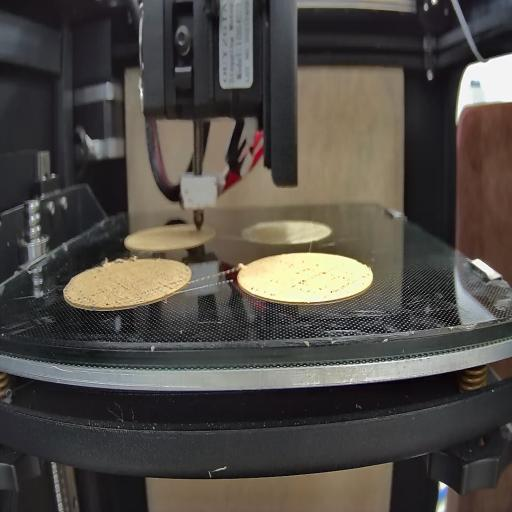under_extrusion: (288, 259, 352, 297), (78, 273, 136, 307), (146, 277, 179, 299), (251, 283, 275, 298)
